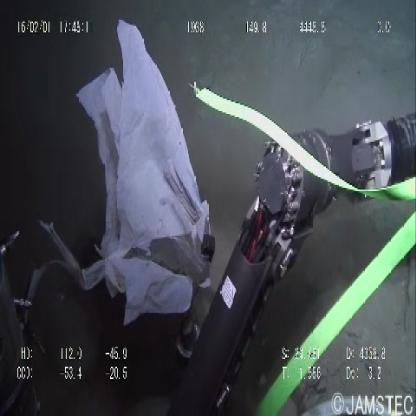Rov: (178, 104, 416, 414)
Rác: (72, 14, 215, 330)
